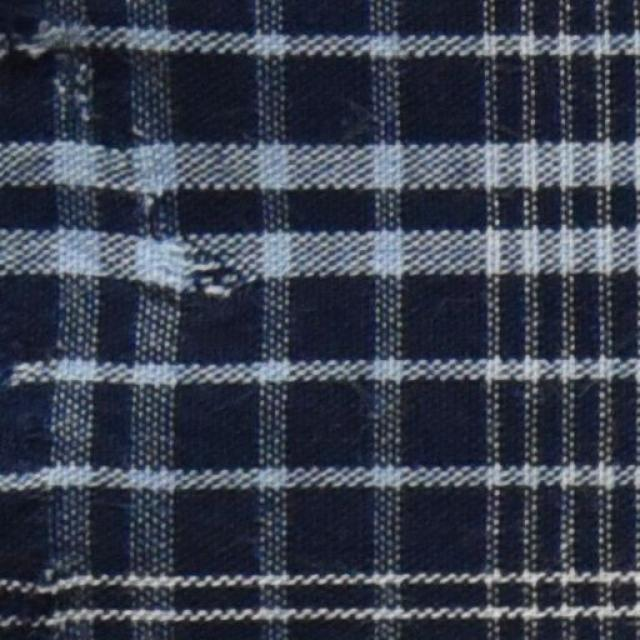Snag: (146, 221, 263, 332), (0, 6, 80, 70)
